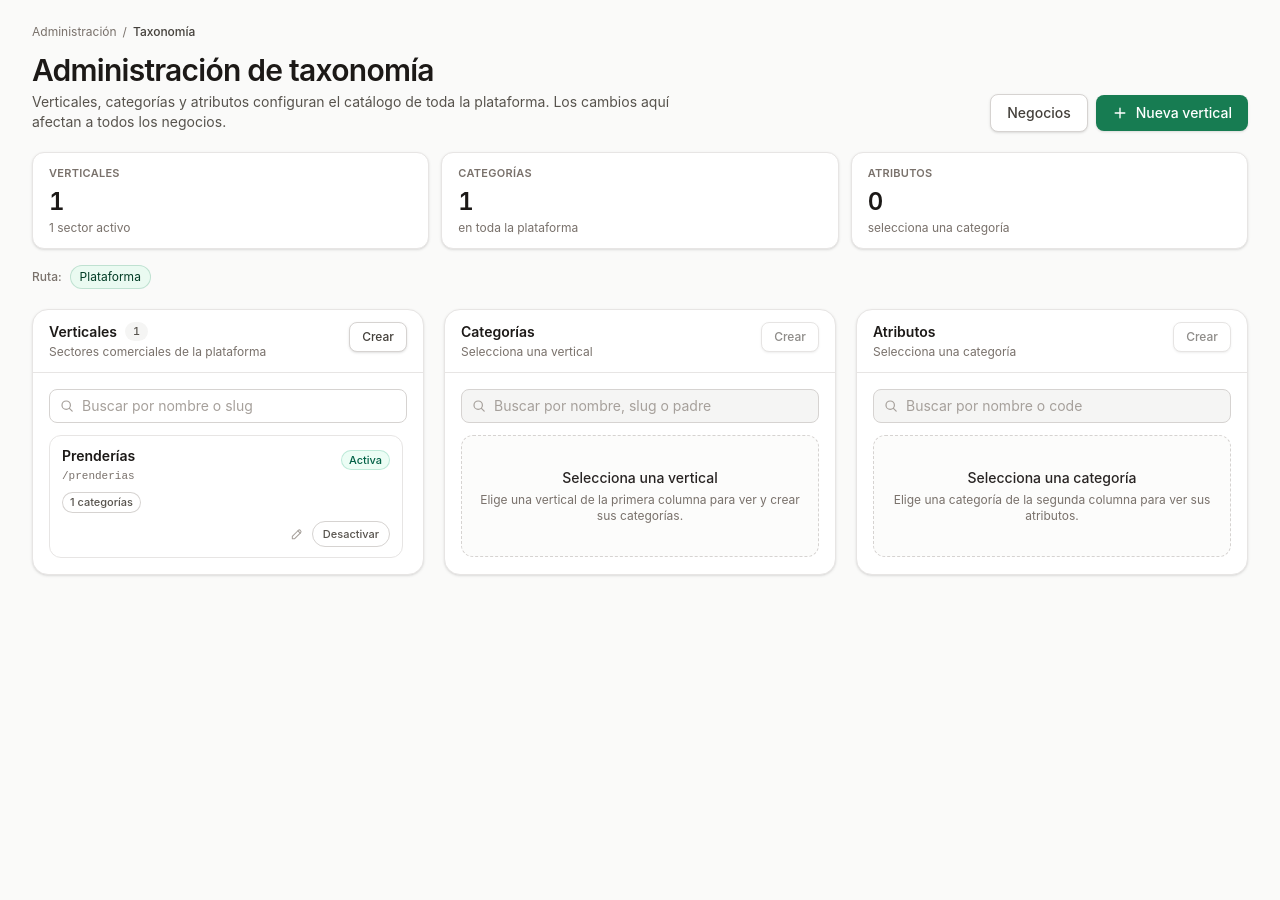
Scenario: Panel de taxonomía (UI) › abre el modal de creación y lo cierra con Escape
Check: the heading "Administración de taxonomía" is shown, box x1=32 y1=52 x2=434 y2=88
Check: the text "Prenderías" is shown, box x1=62 y1=446 x2=135 y2=466
Click the button "Nueva vertical" at (1172, 113), box x1=1096 y1=95 x2=1248 y2=131
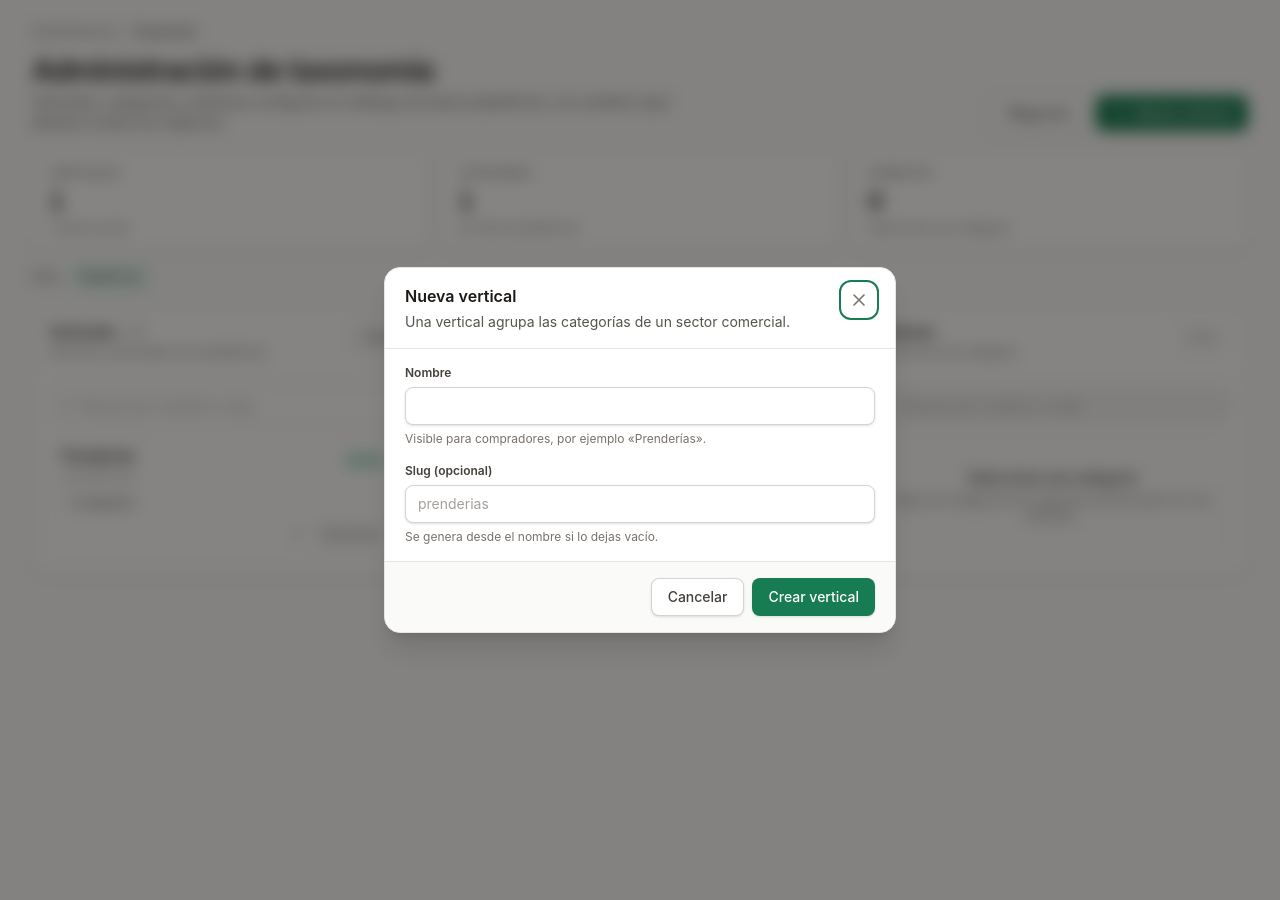
Check: the field labelled "Nombre" is shown, box x1=405 y1=387 x2=875 y2=425
Press Escape
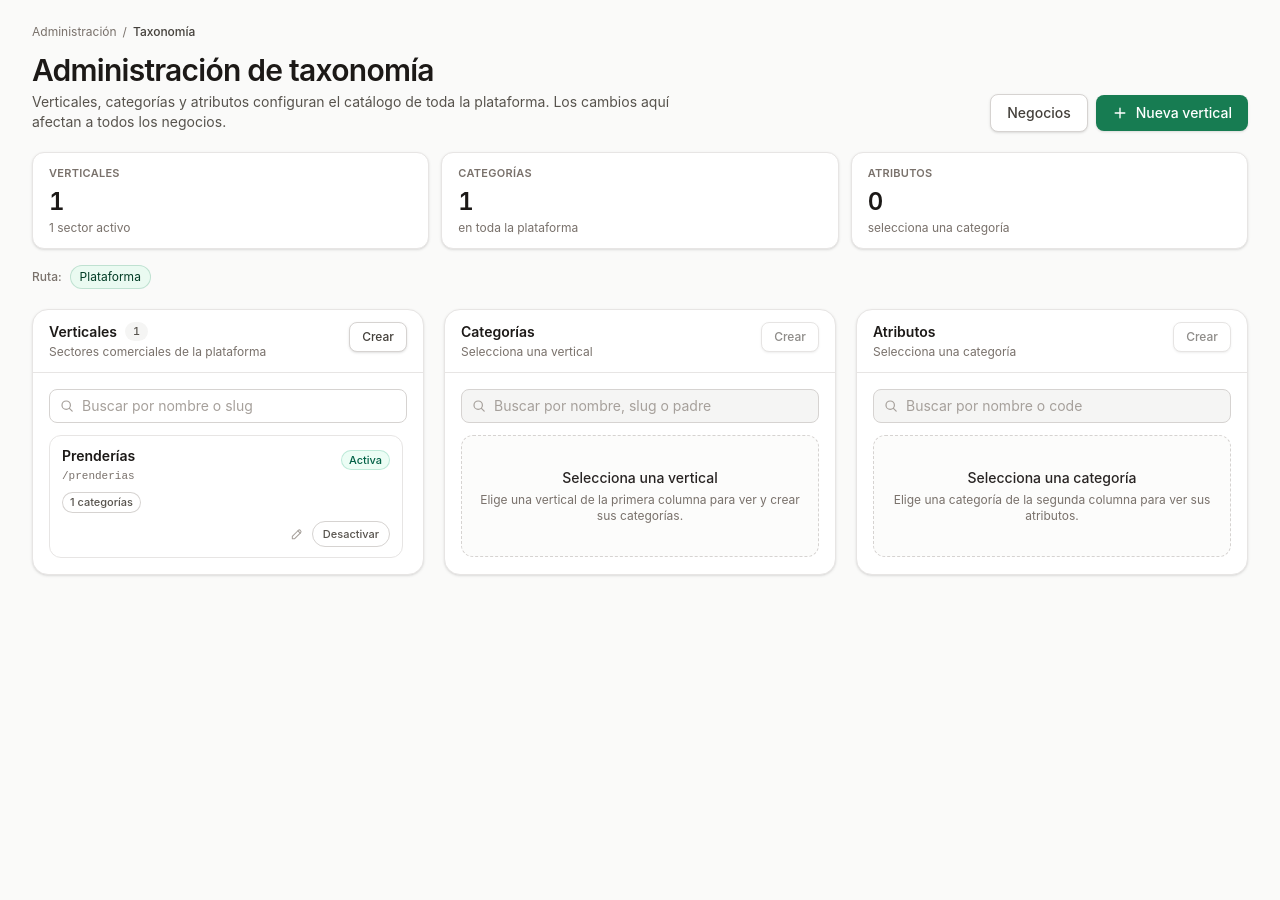
Check: the dialog is gone
